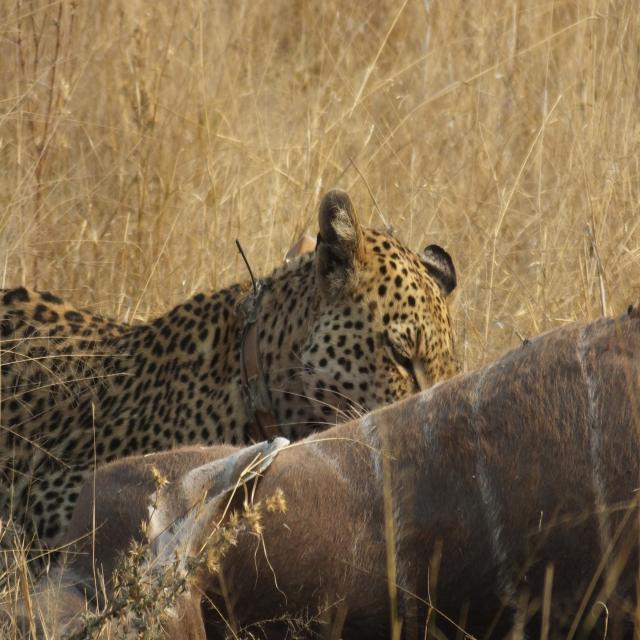Leopard: (5, 180, 469, 591)
